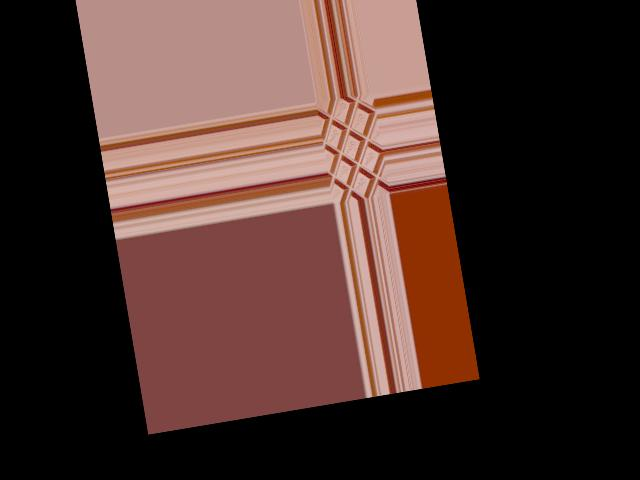chocolate: (317, 92, 390, 200)
